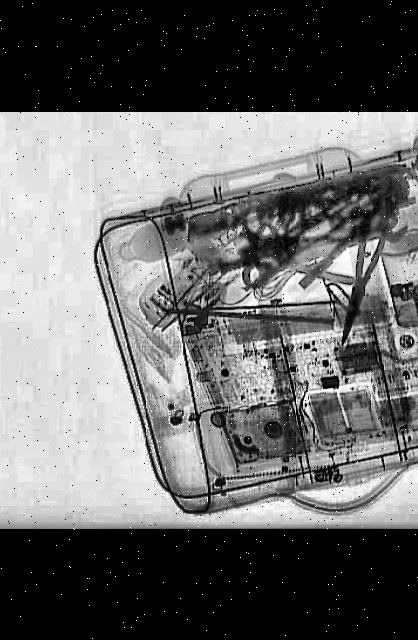Pliers: (326, 235, 386, 347)
